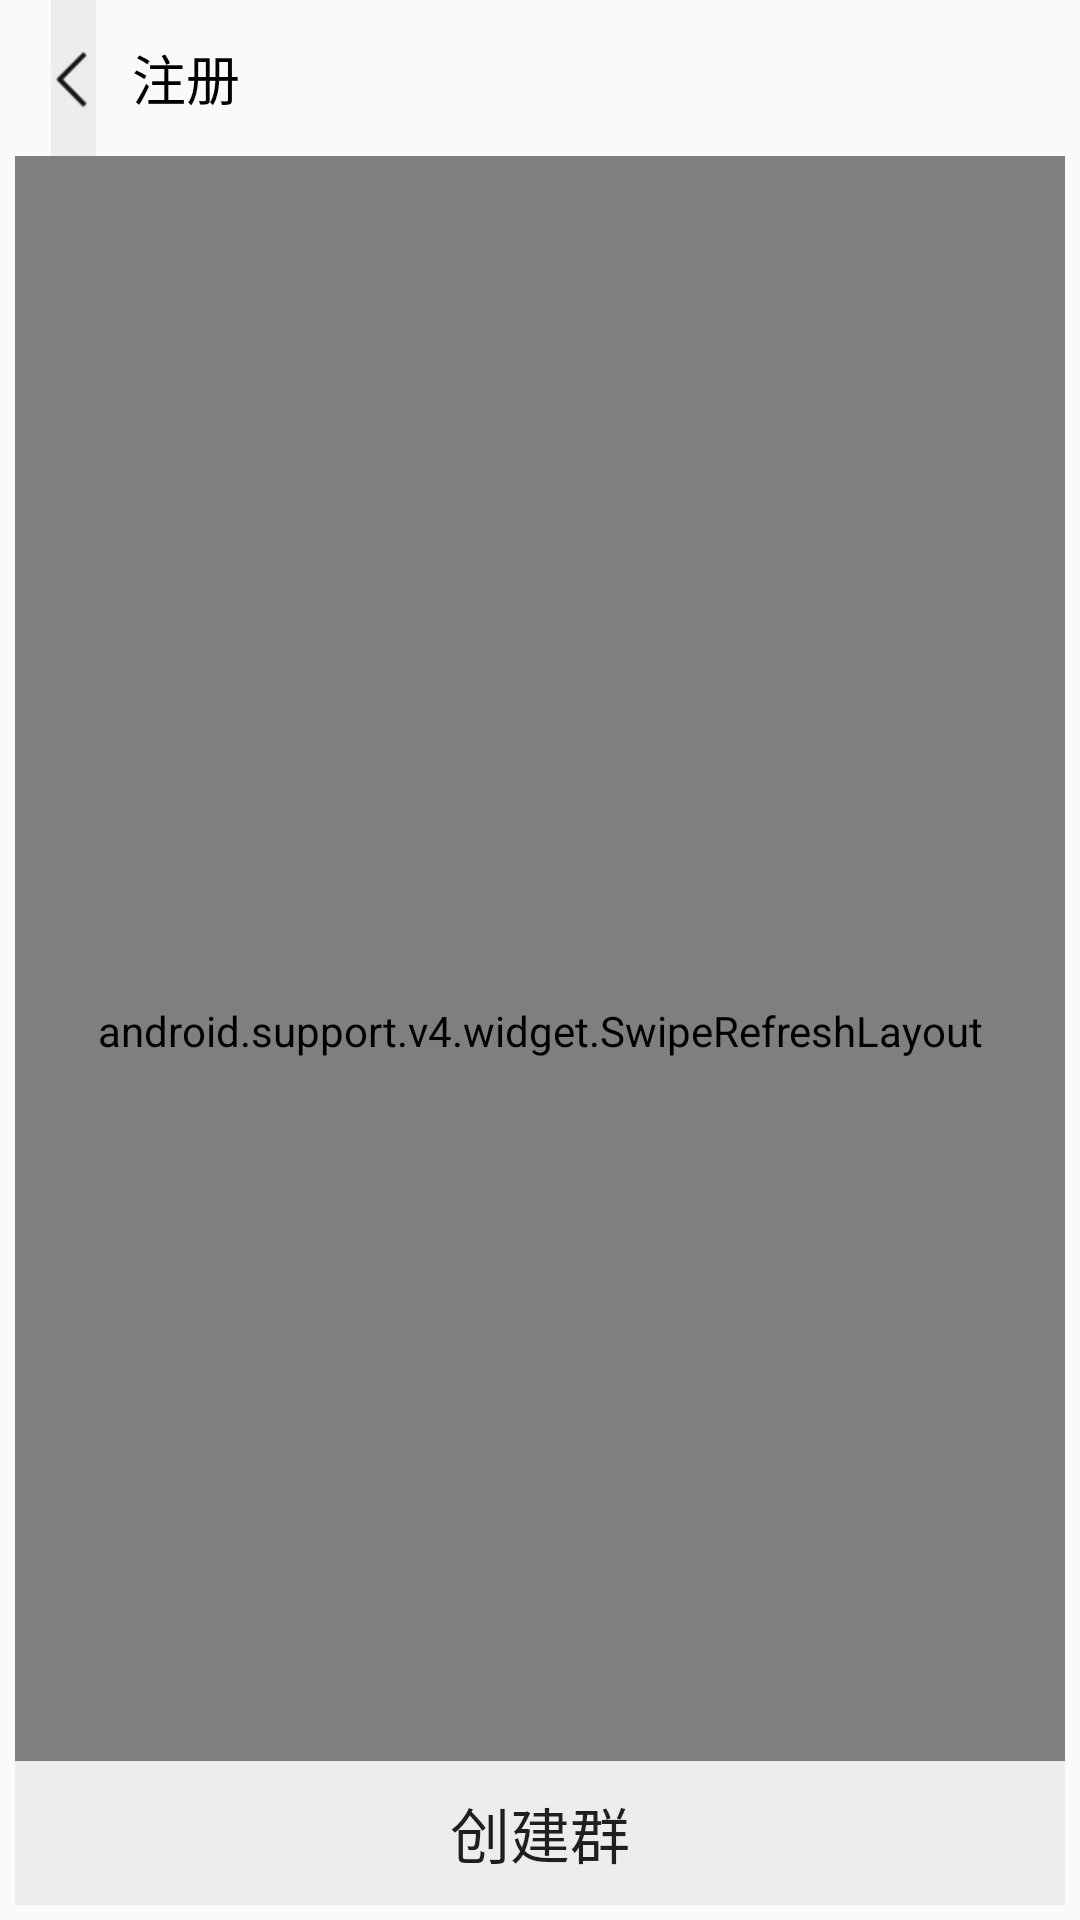

Named icons in this screenshot (1080px x 1920px) and their bounding boxes, (x1, y1, x2, y2):
backbutton: (51, 0, 96, 156)
